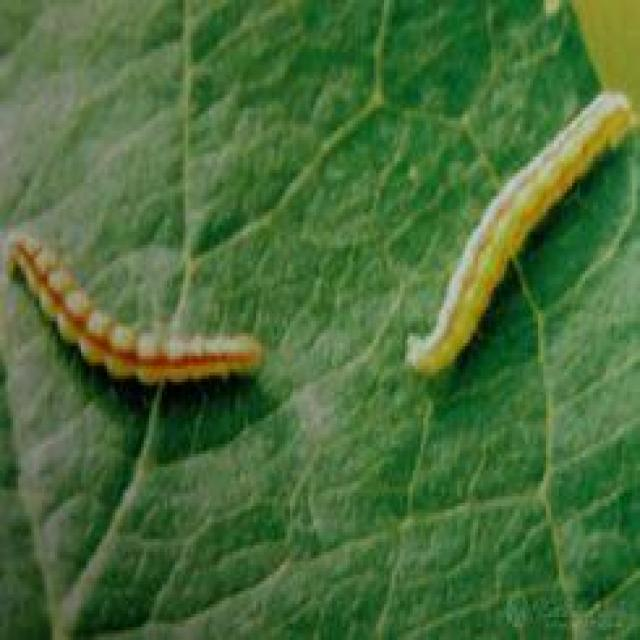BeetArmyWorm-Larva-: (397, 85, 636, 384), (5, 225, 270, 398)
